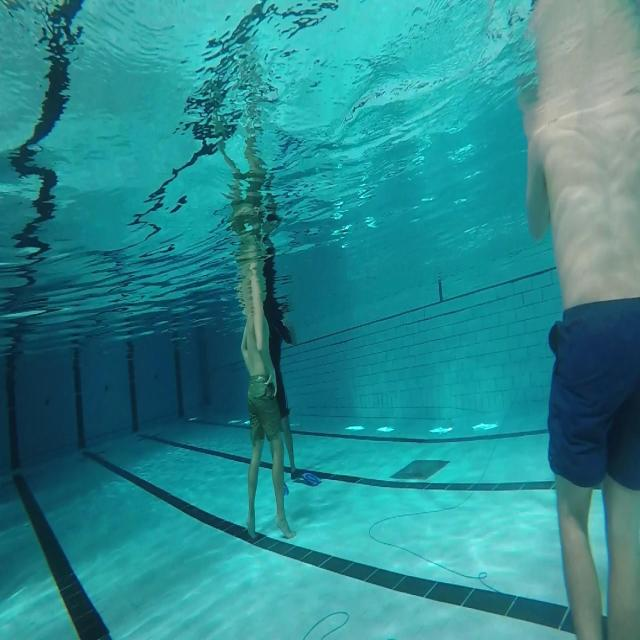human: (518, 1, 640, 638), (240, 259, 296, 540)
